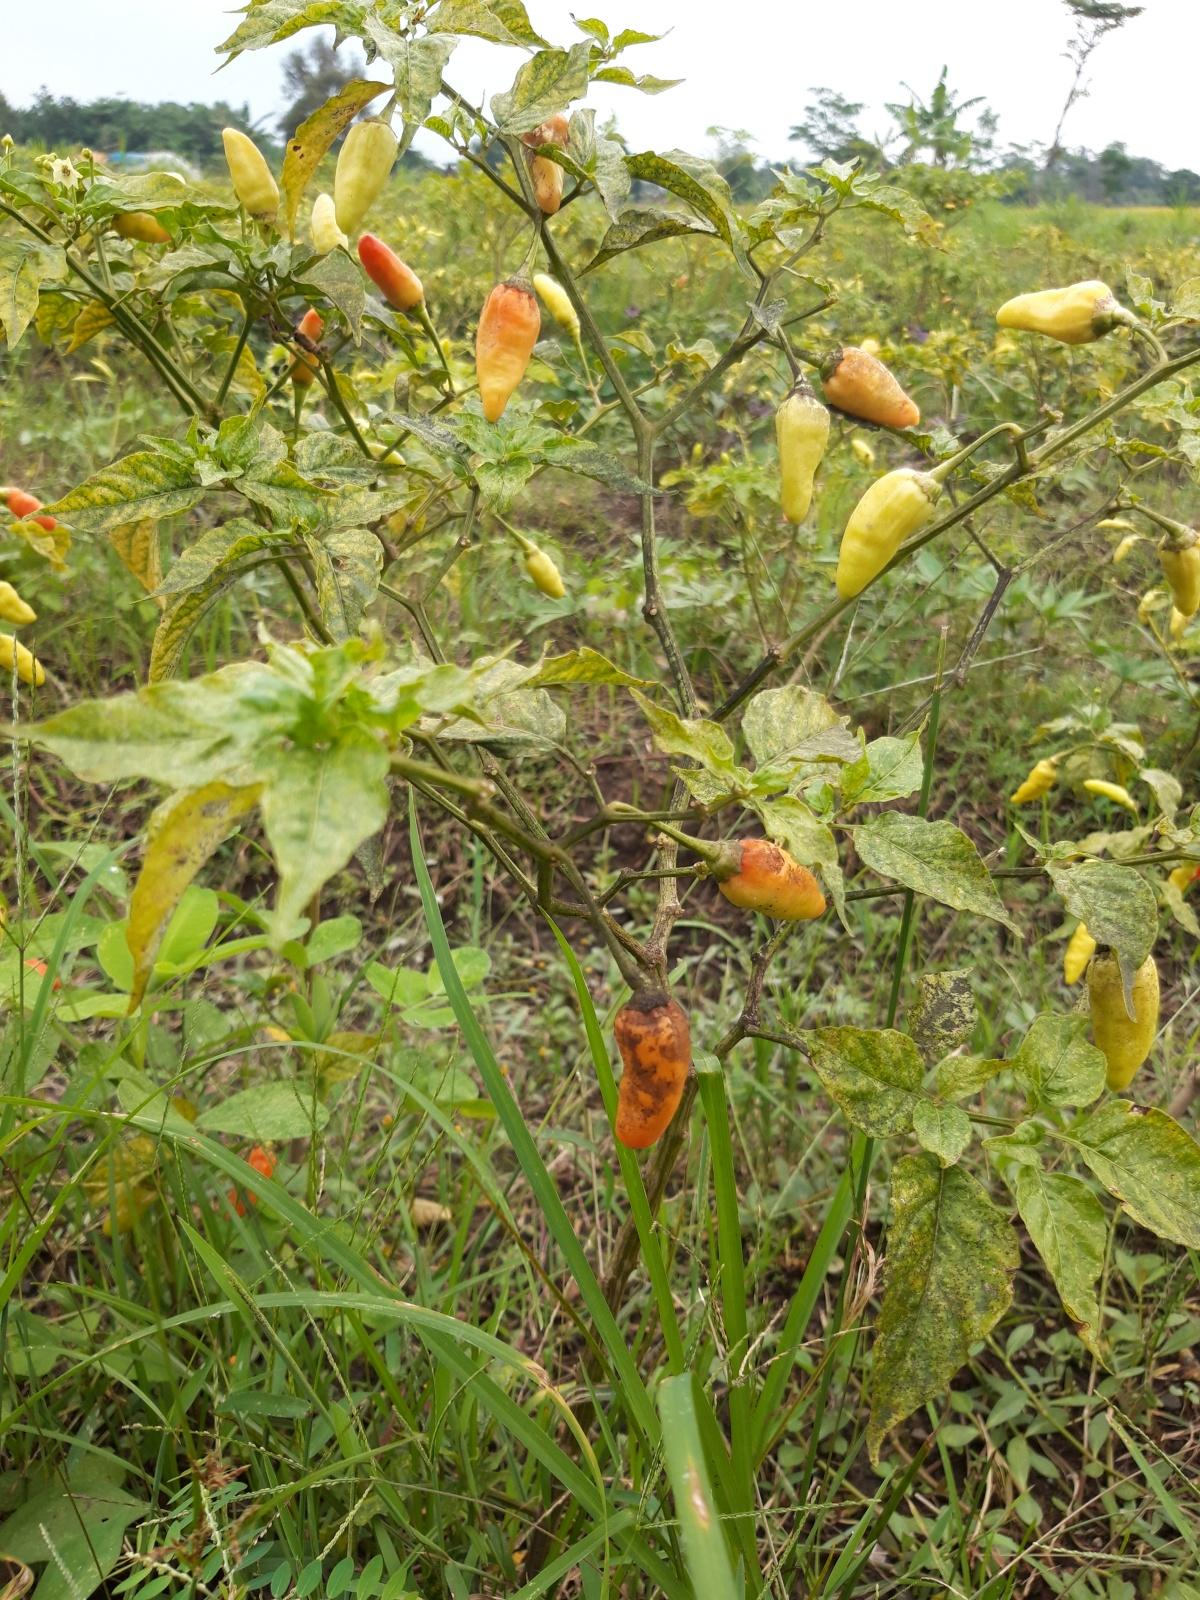cabai_normal: (836, 469, 939, 603), (1089, 951, 1160, 1094), (475, 286, 541, 423), (997, 281, 1116, 346), (775, 389, 831, 527), (335, 122, 398, 236), (223, 127, 280, 227), (358, 234, 424, 311), (290, 307, 326, 391), (0, 632, 45, 687), (532, 273, 577, 326), (311, 194, 349, 257), (1064, 921, 1098, 986), (6, 488, 57, 530), (526, 548, 566, 600), (1010, 758, 1056, 803), (0, 582, 37, 625), (1084, 780, 1133, 809)
lalat_buah: (615, 994, 689, 1150), (717, 839, 824, 917), (823, 348, 920, 431), (524, 111, 568, 214)
